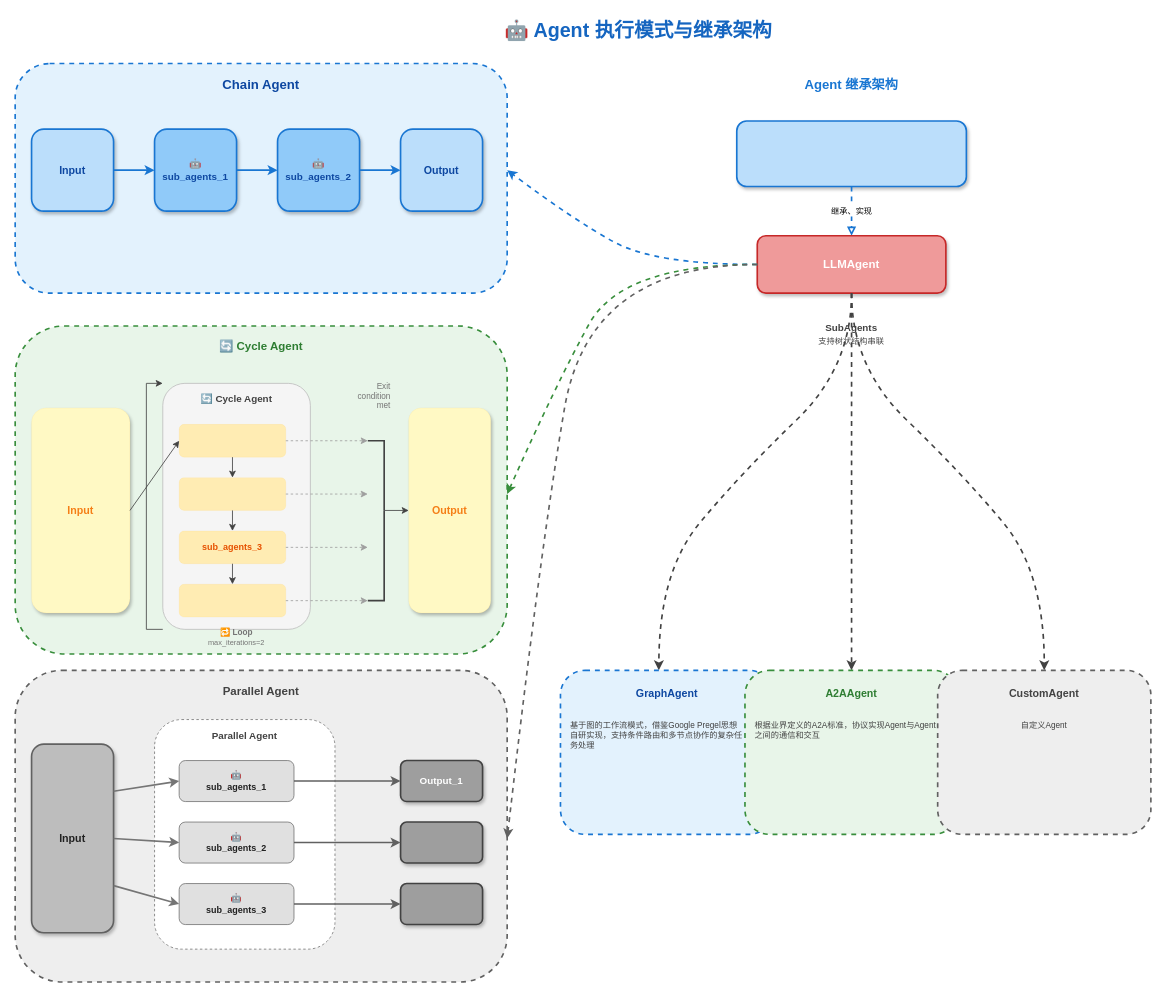
Some shapes in this 1165 by 996 pixel diagram are drawn without their labels. The centre of each missing label's shape, as x and y in pixels:
BaseAgent (基类、接口): the point at 852,154
Output_2: the point at 442,843
Output_3: the point at 442,905
sub_agents_1: the point at 232,440
sub_agents_2: the point at 232,493
sub_agents_4: the point at 232,600
